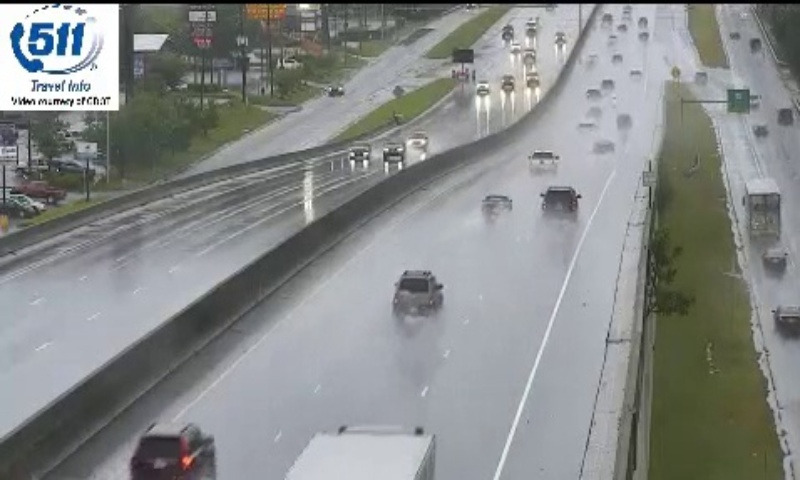car: (130, 426, 215, 480), (393, 270, 441, 316), (542, 186, 579, 218), (528, 148, 558, 173), (482, 192, 510, 217)
